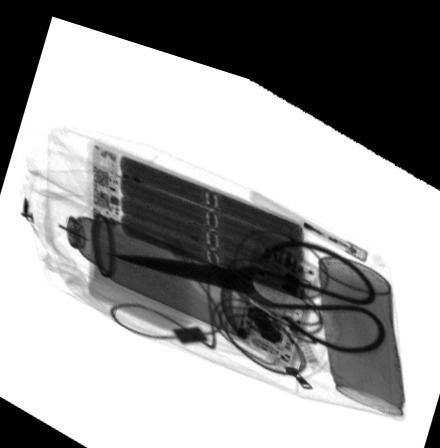Lighter: (289, 193, 373, 245)
Powerbank: (90, 135, 310, 290)
Scissors: (112, 220, 387, 332)
Sprayer: (46, 185, 254, 328)
